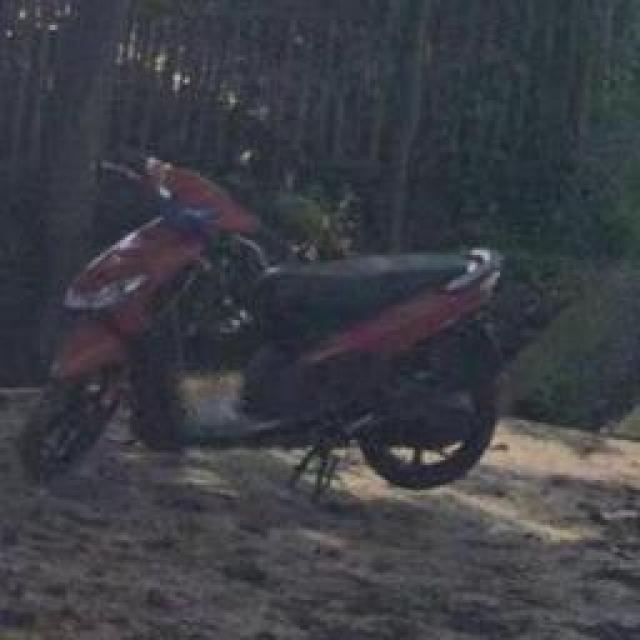motorbike: (40, 160, 536, 492)
